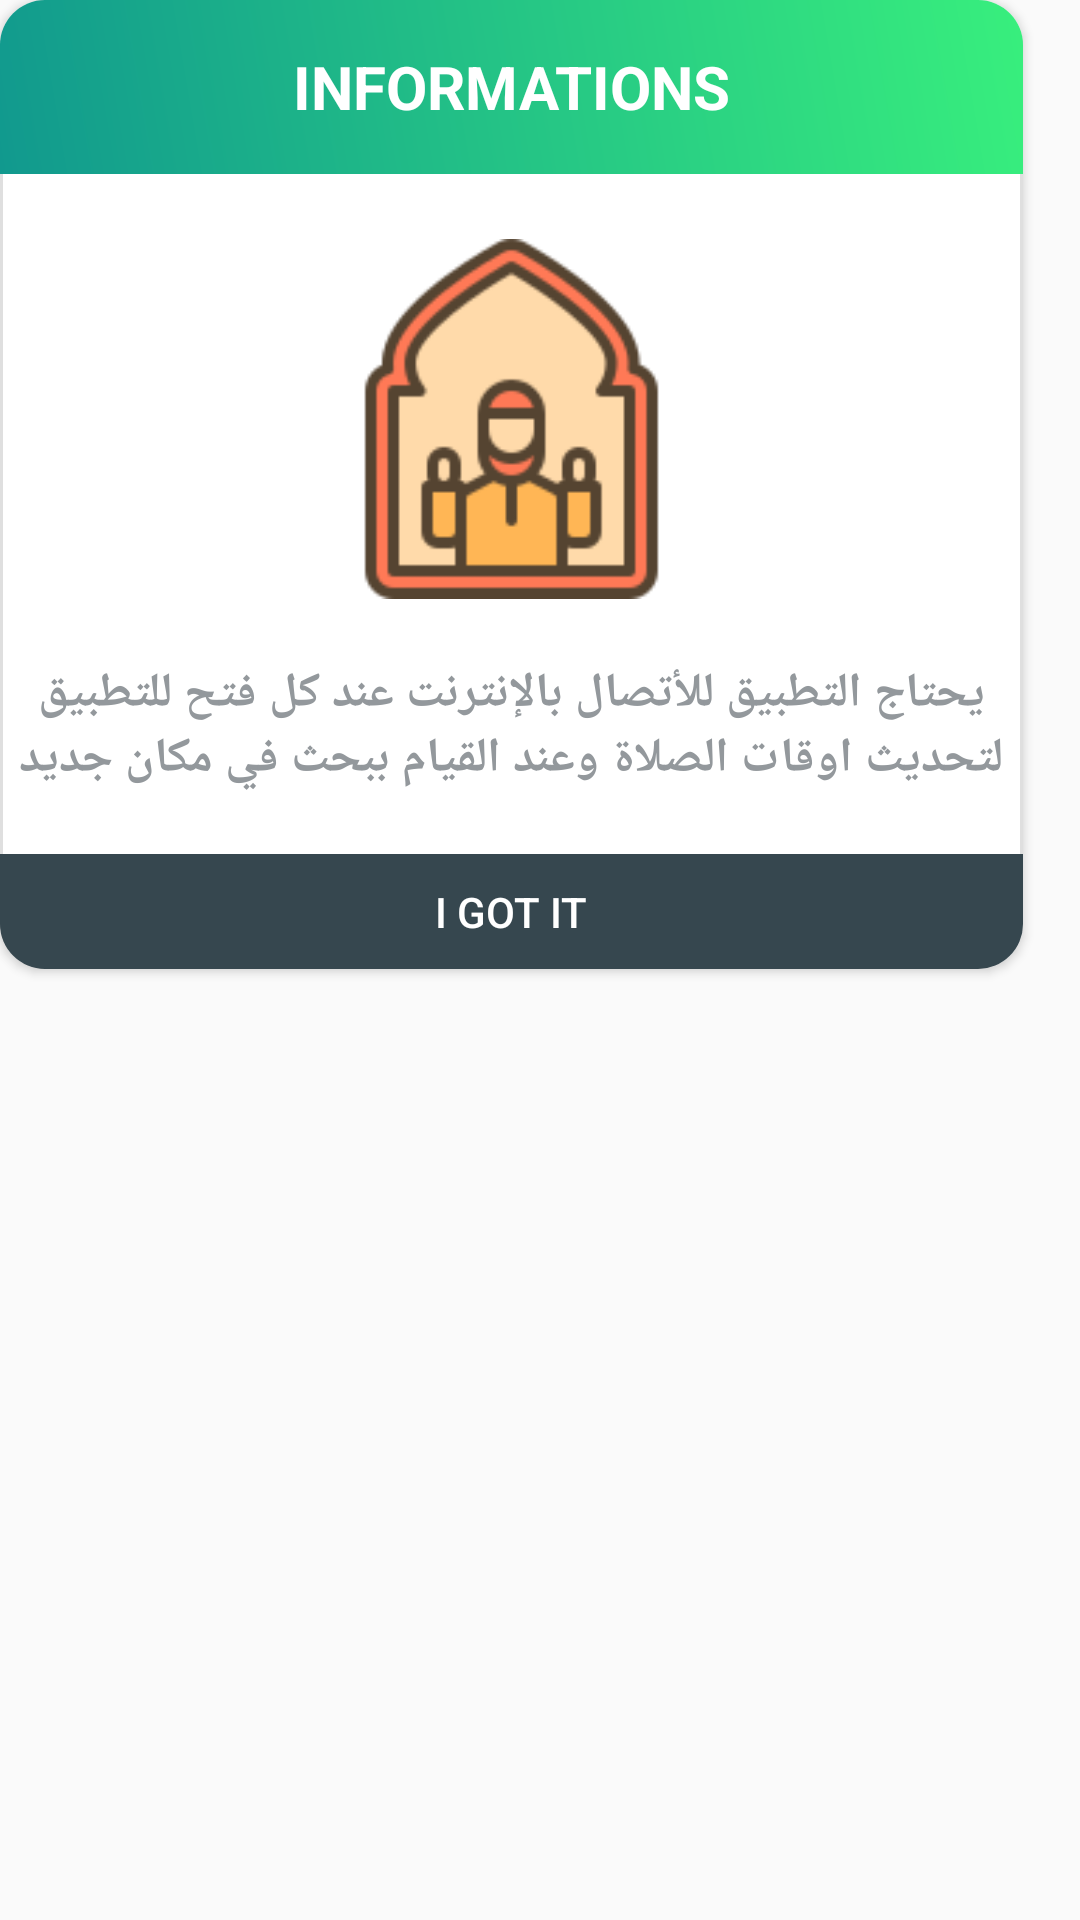

Icons on this 1080×1920 Android screen, each with the point to tap as (x=x, y=y):
iconapp: (x=511, y=419)
